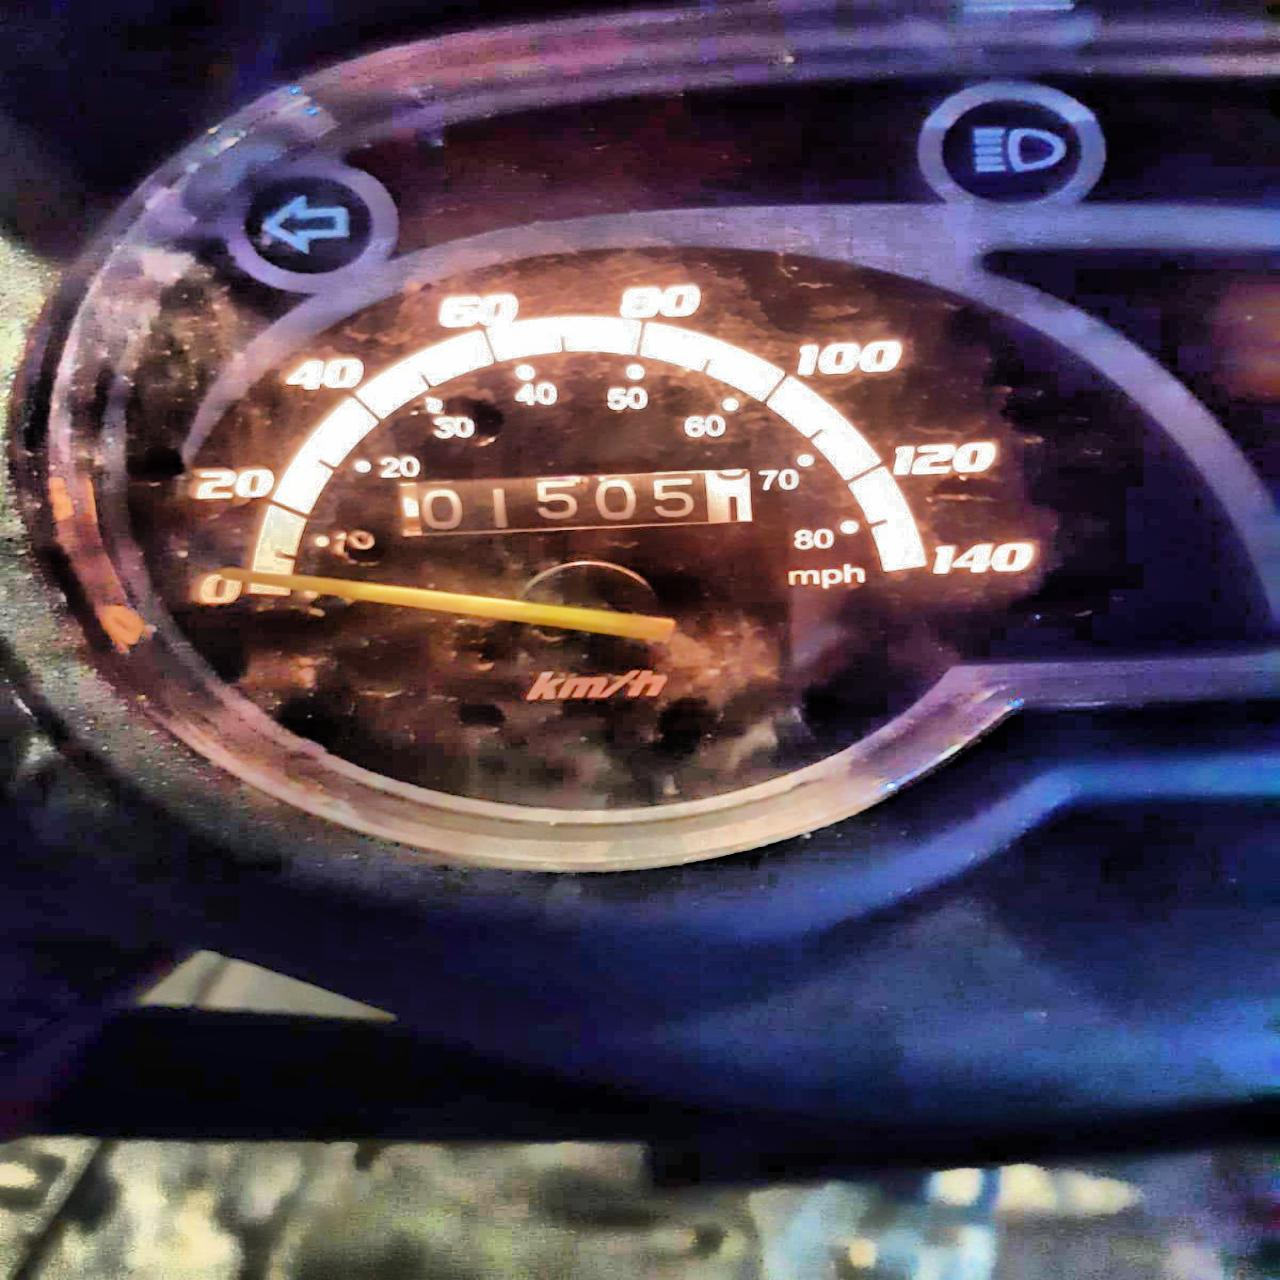0: (418, 485, 465, 529), (594, 476, 639, 520)
1: (484, 483, 513, 529), (722, 492, 741, 524)
5: (530, 477, 580, 520), (648, 475, 699, 518)
odometer: (401, 465, 761, 536)
